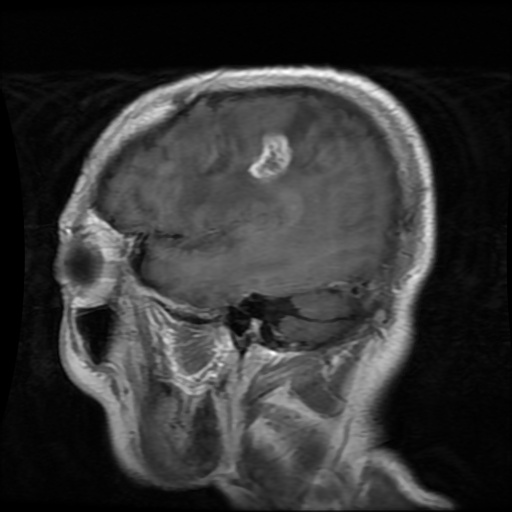glioma: (249, 128, 291, 179)
